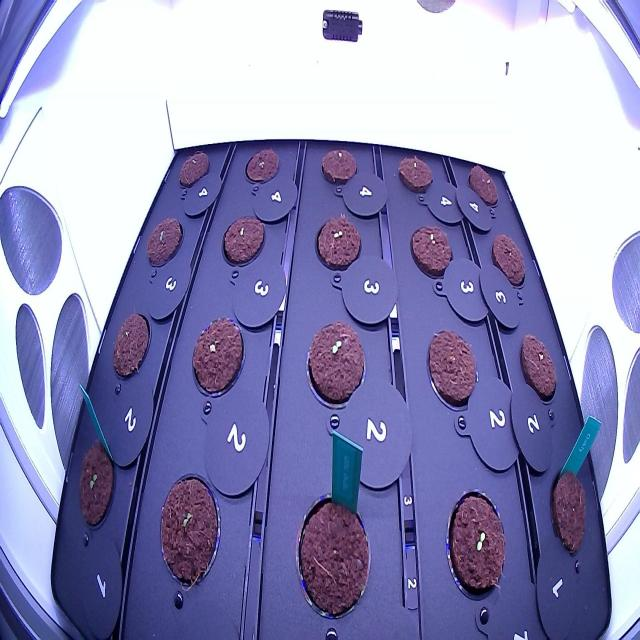germination: (153, 465, 225, 610), (436, 481, 510, 614), (297, 313, 369, 418), (72, 433, 121, 543), (308, 208, 364, 278), (142, 211, 188, 282)
pod: (292, 487, 378, 628), (418, 324, 488, 420), (187, 307, 250, 408), (542, 458, 593, 572), (516, 324, 564, 425), (403, 216, 458, 290), (109, 306, 154, 384), (216, 207, 267, 275), (488, 224, 531, 296), (240, 141, 284, 195), (316, 142, 361, 192), (391, 150, 435, 201), (461, 158, 502, 212), (173, 145, 215, 196)
